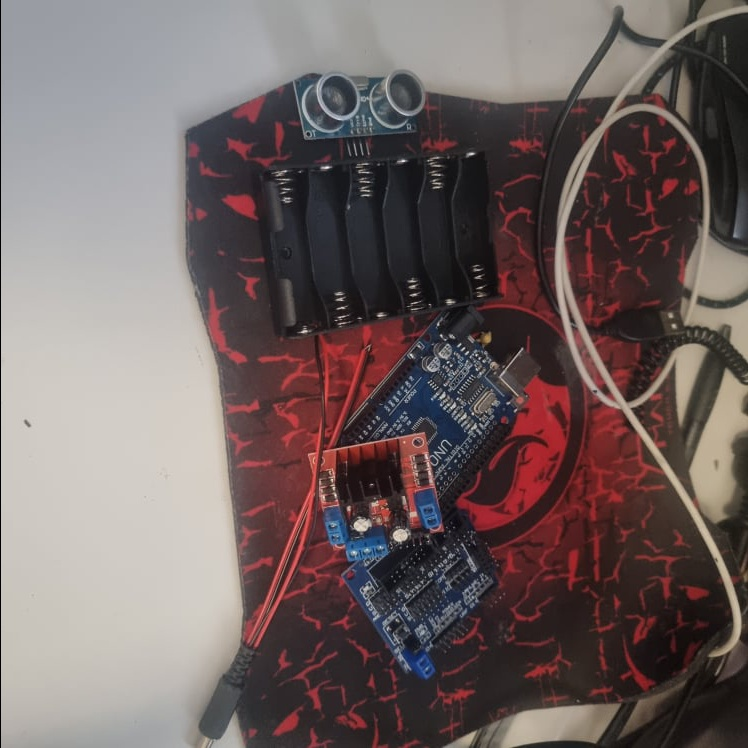5V EXPANSION: (340, 512, 515, 678)
BATTERY BOX: (255, 143, 501, 338)
MOTOR: (307, 439, 443, 563)
SENSOR: (287, 65, 425, 139)
UNO R3: (348, 304, 543, 483)
